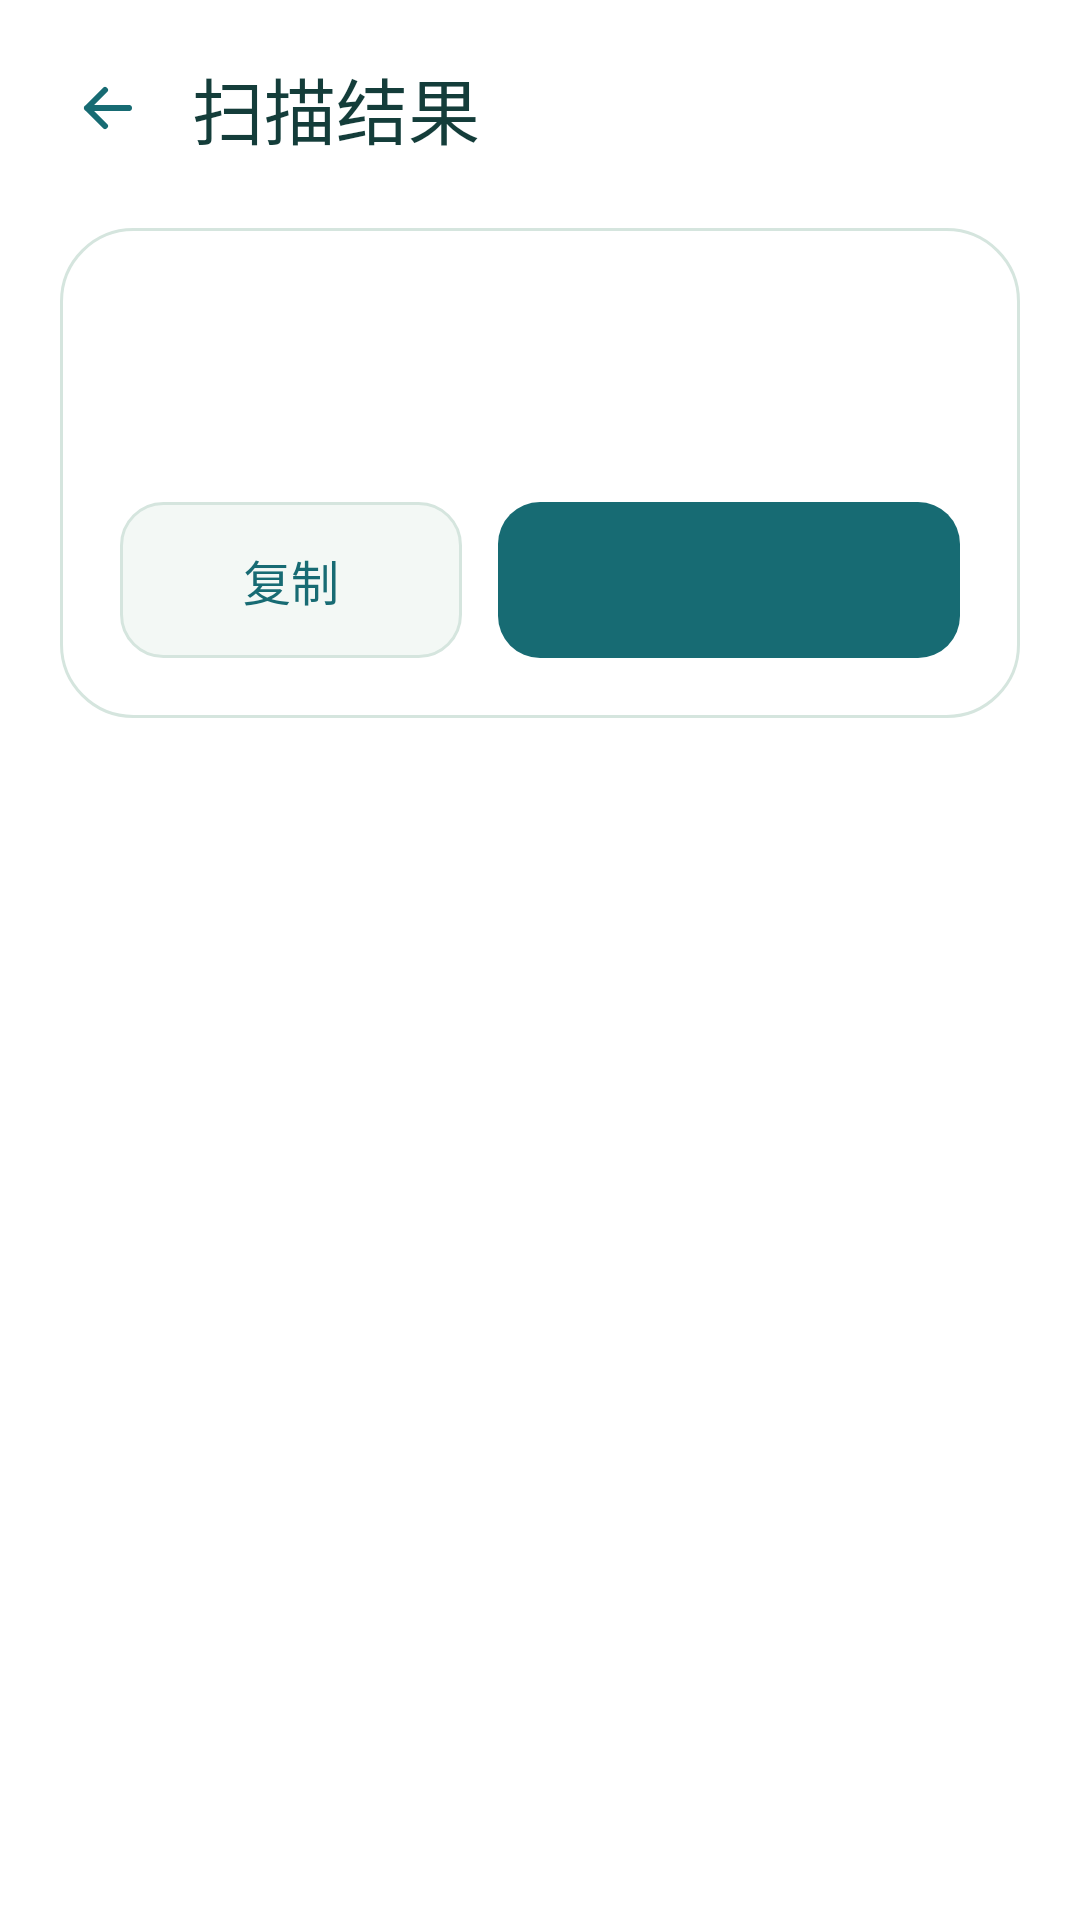

Screen size 1080x1920. Icon name, then its box in pixels as (x1, y1, x2, y2):
后退: (84, 87, 132, 129)
